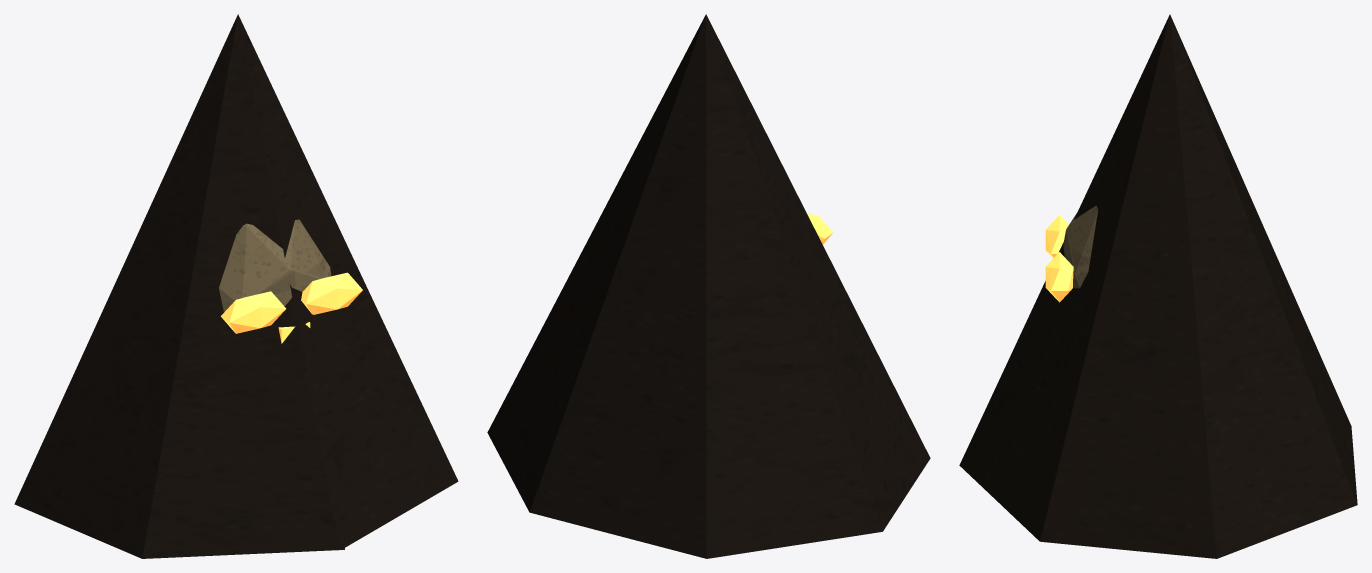
Rendered from stone-wanderer-hooded-reliquary-v1.glb.
The picture shows the model from 3 angles, left to right: view 1: azimuth 30°, elevation 25°; view 2: azimuth 150°, elevation 25°; view 3: azimuth 270°, elevation 25°; orthographic projection.
Parts seen in each view (by area): view 1: Part_0, Part_1, Part_2, Part_3; view 2: Part_0; view 3: Part_0, Part_1, Part_3, Part_2.
Boxes of the visible parts, bbox=[...] form: Part_0: bbox=[14, 14, 458, 558]; Part_1: bbox=[219, 219, 331, 312]; Part_2: bbox=[221, 291, 286, 333]; Part_3: bbox=[301, 272, 362, 314]; Part_0: bbox=[487, 14, 930, 558]; Part_0: bbox=[959, 14, 1357, 558]; Part_1: bbox=[1063, 205, 1097, 288]; Part_3: bbox=[1045, 252, 1073, 302]; Part_2: bbox=[1045, 215, 1068, 258].
Bounding box in the file's own units: 0.8317 × 0.9196 × 0.7267.
3 materials, 2 textured.
